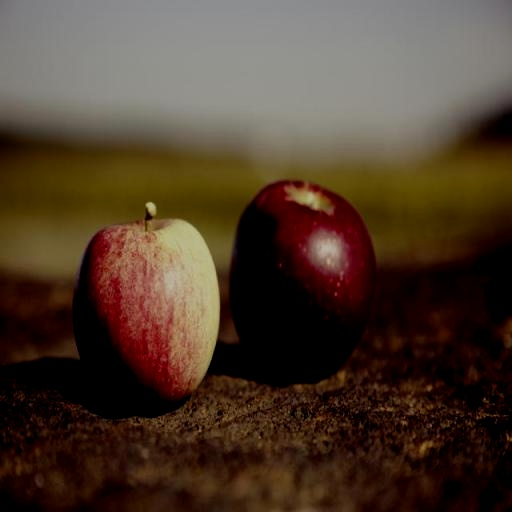fruit: (73, 204, 219, 409), (230, 181, 374, 380)
